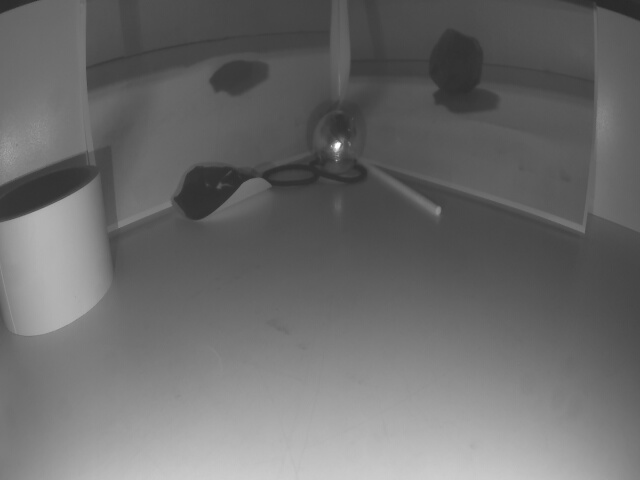Live: (309, 105, 361, 170)
